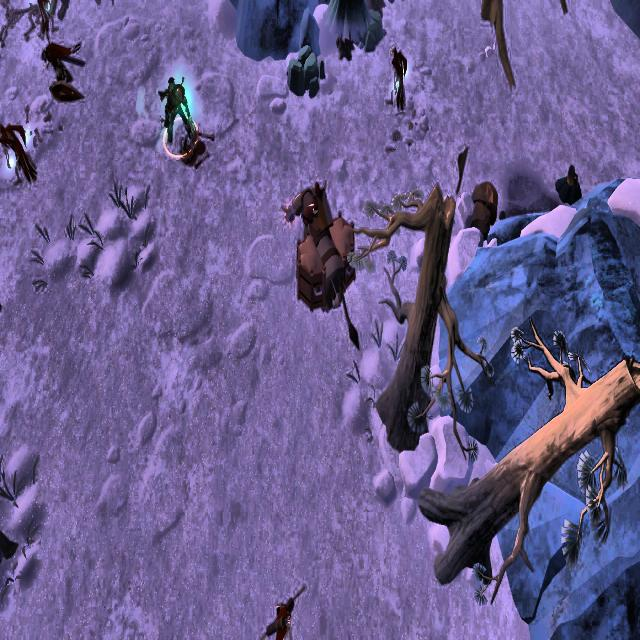enemy_factionUndead: (157, 72, 199, 161), (43, 34, 90, 112), (0, 121, 41, 199), (264, 592, 307, 640), (390, 46, 410, 117)
rock_t3: (278, 48, 325, 96), (353, 3, 388, 56)
